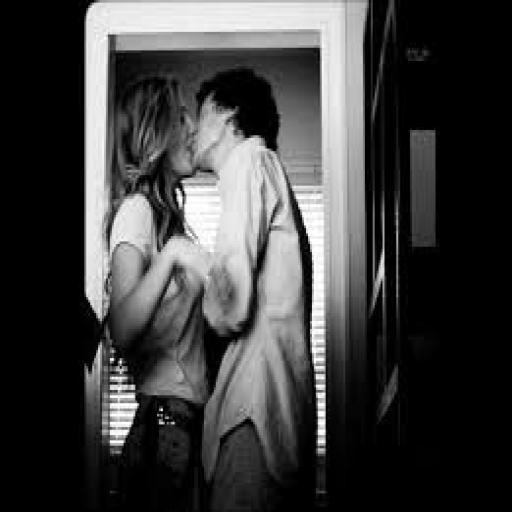hugging: (102, 64, 318, 509), (104, 69, 212, 509)
